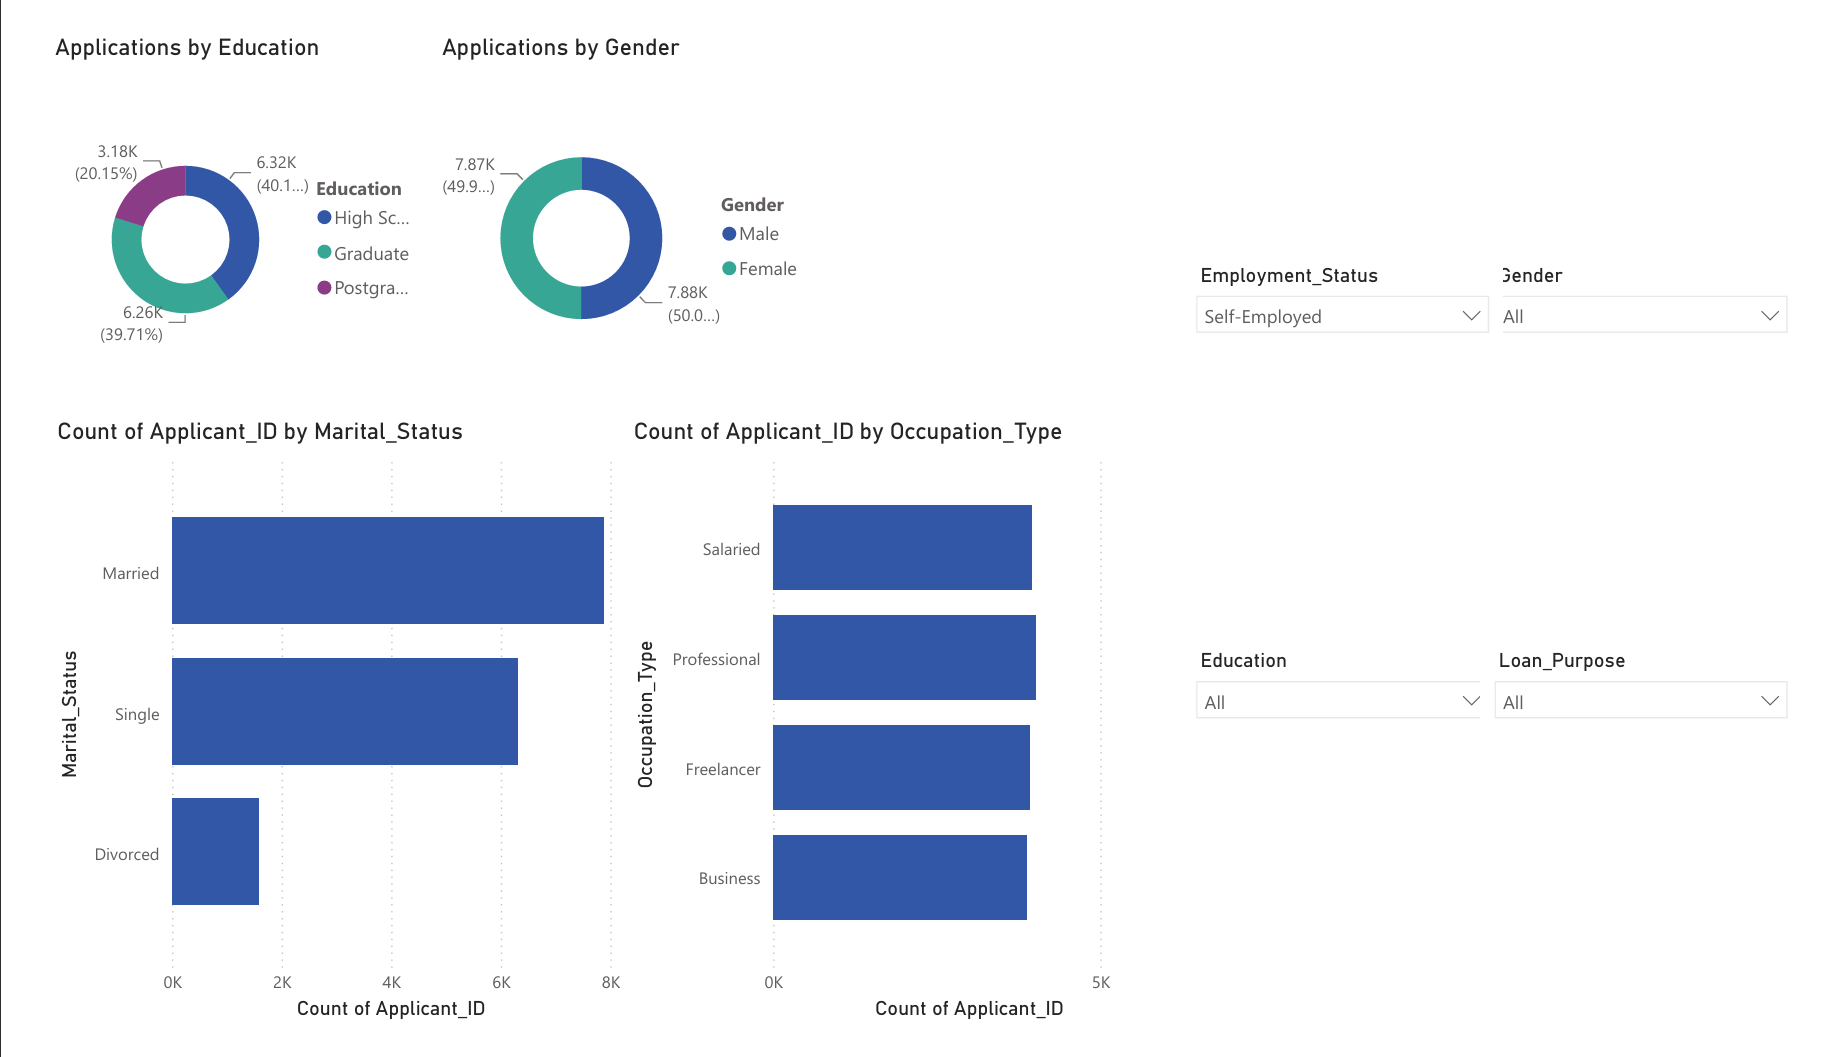

This screenshot's page, from the dashboard's own definition file:
{"tool":"powerbi","page":{"name":"Customer Analysis","canvas":[1280,720],"ordinal":1},"visuals":[{"type":"donutChart","title":"Applications by Education","fields":{"Category":["clean_loan_data.Education"],"Y":["CountNonNull(clean_loan_data.Applicant_ID)"]},"box":[10,0,280,280],"z":0},{"type":"donutChart","title":"Applications by Gender","fields":{"Category":["clean_loan_data.Gender"],"Y":["CountNonNull(clean_loan_data.Applicant_ID)"]},"box":[289.9,0,278.3,278.3],"z":1000},{"type":"clusteredBarChart","fields":{"Category":["clean_loan_data.Marital_Status"],"Y":["CountNonNull(clean_loan_data.Applicant_ID)"]},"box":[11.6,278.3,417.4,440.6],"z":2000},{"type":"clusteredBarChart","fields":{"Category":["clean_loan_data.Occupation_Type"],"Y":["CountNonNull(clean_loan_data.Applicant_ID)"]},"box":[429,278.3,401.9,440.6],"z":3000},{"type":"slicer","fields":{"Values":["clean_loan_data.Gender"]},"box":[1047.4,162.3,231.9,278.3],"z":4000},{"type":"slicer","fields":{"Values":["clean_loan_data.Education"]},"box":[830.9,440.6,231.9,278.3],"z":5000},{"type":"slicer","fields":{"Values":["clean_loan_data.Employment_Status"]},"box":[830.9,162.3,231.9,278.3],"z":6000},{"type":"slicer","fields":{"Values":["clean_loan_data.Loan_Purpose"]},"box":[1047.4,440.6,231.9,278.3],"z":7000}]}

Visuals, with their boxes in screenshot pixels (x1, y1, x2, y2), scaled from the page's 1280x720 canvas onto the 1833x1057 screenshot:
"Applications by Education" donutChart: select_region(14, 0, 415, 411)
"Applications by Gender" donutChart: select_region(415, 0, 814, 409)
clusteredBarChart - clean_loan_data.Marital_Status x CountNonNull(clean_loan_data.Applicant_ID): select_region(17, 409, 614, 1055)
clusteredBarChart - clean_loan_data.Occupation_Type x CountNonNull(clean_loan_data.Applicant_ID): select_region(614, 409, 1190, 1055)
slicer - clean_loan_data.Gender: select_region(1500, 238, 1832, 647)
slicer - clean_loan_data.Education: select_region(1190, 647, 1522, 1055)
slicer - clean_loan_data.Employment_Status: select_region(1190, 238, 1522, 647)
slicer - clean_loan_data.Loan_Purpose: select_region(1500, 647, 1832, 1055)
